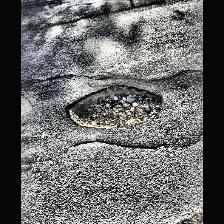pothole: (64, 82, 164, 128)
